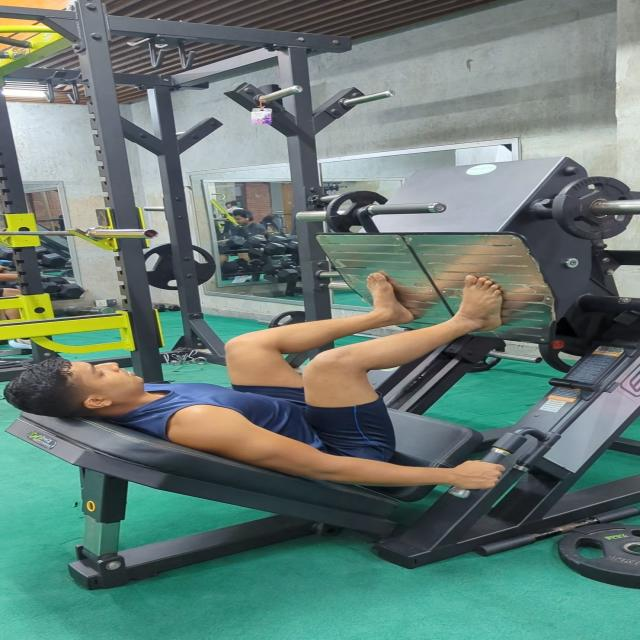Normal_LegPress: (3, 264, 542, 498)
